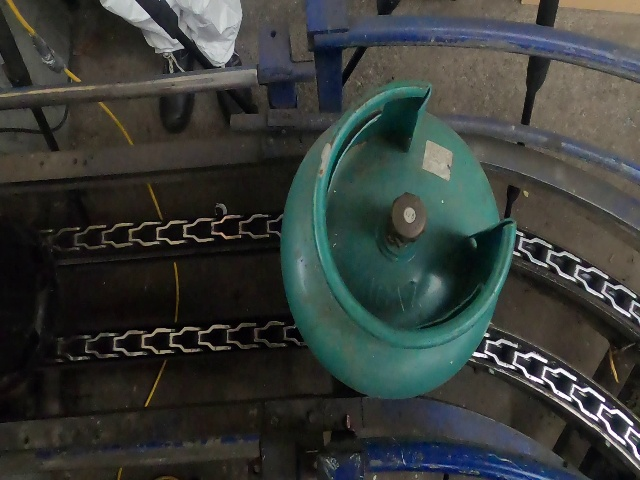gas_bottle: (0, 6, 639, 476)
